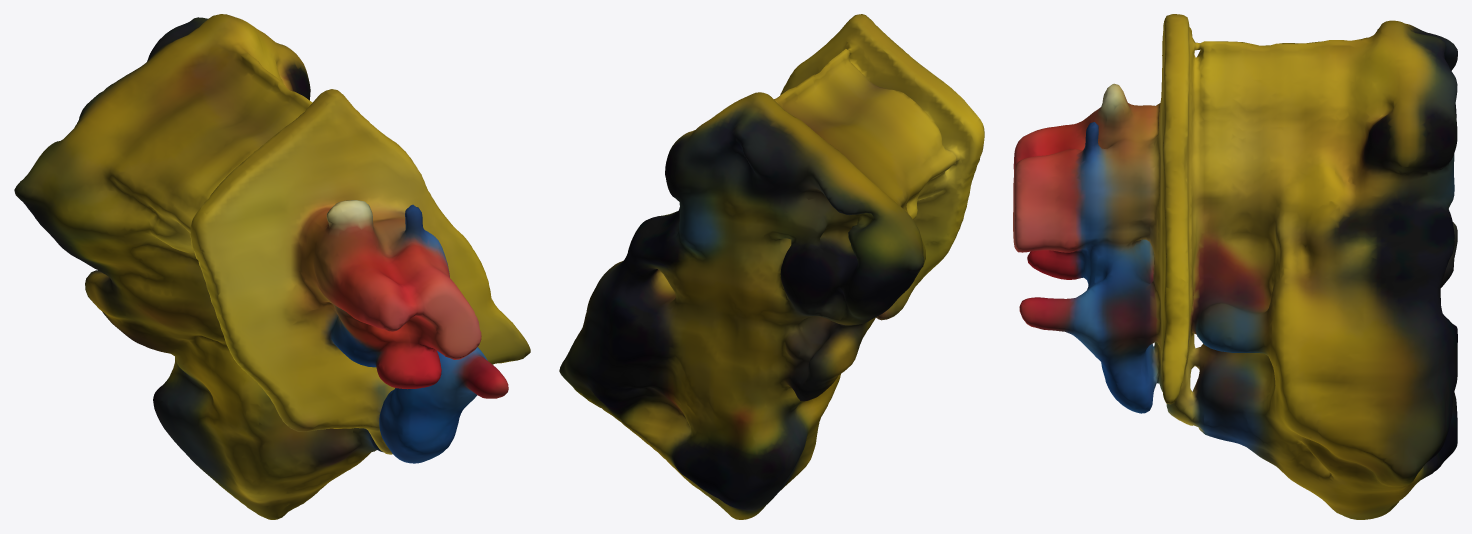
File: school_bus2.glb
3 renders of one model, left to right at view 1: azimuth 30°, elevation 25°; view 2: azimuth 150°, elevation 25°; view 3: azimuth 270°, elevation 25°, orthographic. The views are drawn at different scales.
Bounding box in the file's own units: 0.8595 × 0.9993 × 0.8257.
